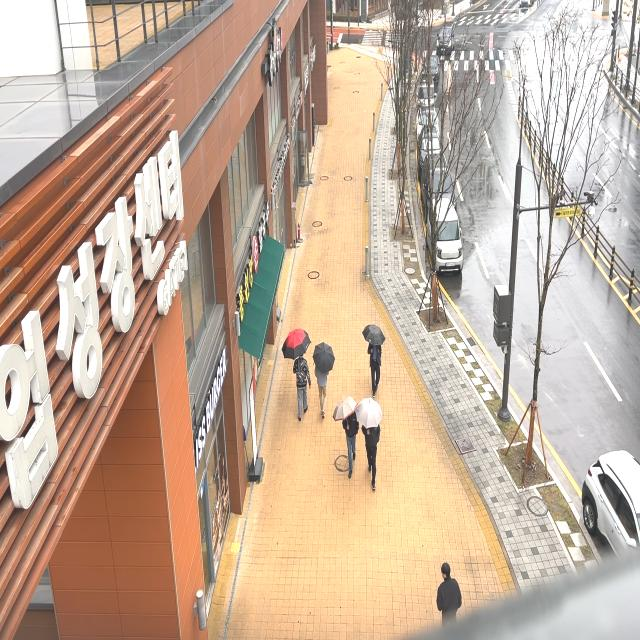Car: (569, 437, 640, 561), (424, 194, 469, 284), (421, 150, 459, 207), (412, 126, 450, 168), (416, 98, 447, 136), (416, 76, 445, 110), (432, 19, 457, 56), (422, 46, 446, 84)
